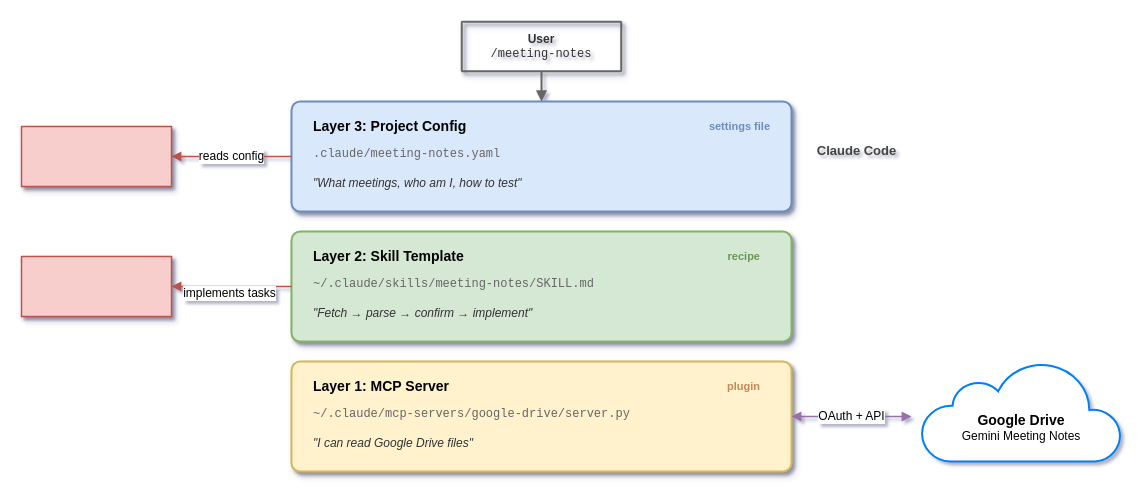
This 1146x503 diagram has some shape labels left out. The shapes that lost their labels are listed below. From the top down, each one's centre as x and y in pixels, then its label:
At (97,157): "Project Repo ~/work/ncbr/".
At (97,287): "Branches + Commits feat/, fix/, docs/".
